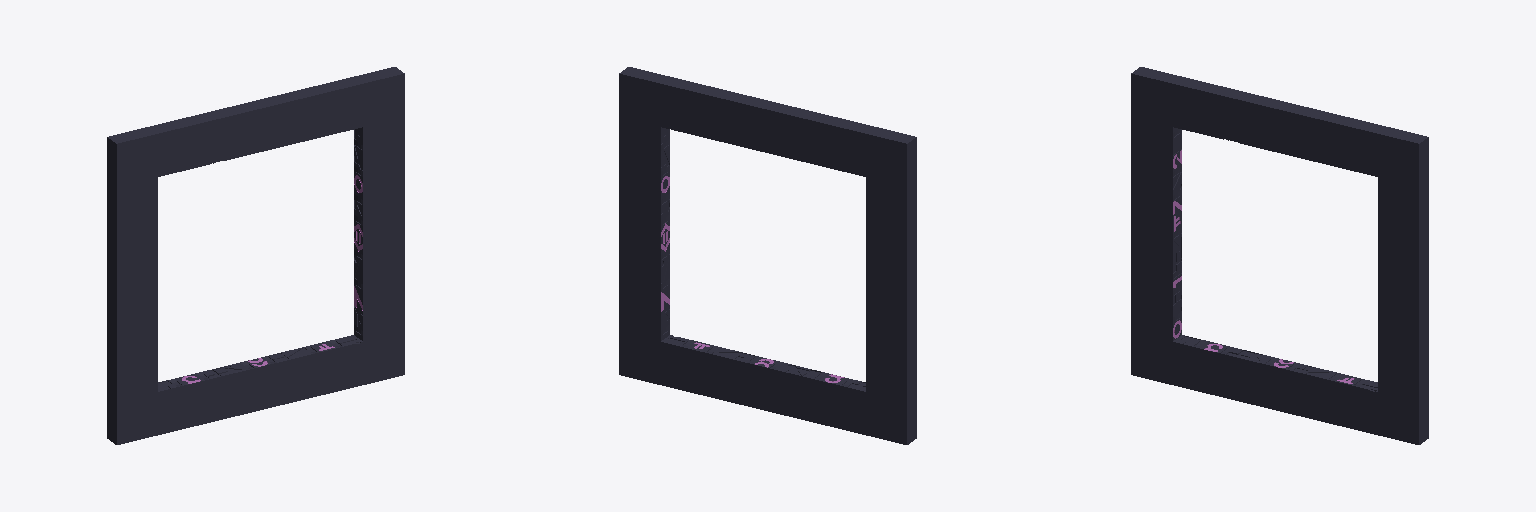
The model's file is arena.obj.
The picture shows the model from 3 angles: view 1: azimuth 30°, elevation 25°; view 2: azimuth 150°, elevation 25°; view 3: azimuth 330°, elevation 25°; orthographic projection.
Visible parts, largest first — view 1: polySurface243; view 2: polySurface243; view 3: polySurface243.
Boxes of the visible parts, x1=… form: polySurface243: x1=107, y1=67, x2=404, y2=444; polySurface243: x1=619, y1=67, x2=916, y2=444; polySurface243: x1=1131, y1=67, x2=1428, y2=444.
Size of the model in its own units: 2812 by 2812 by 162.